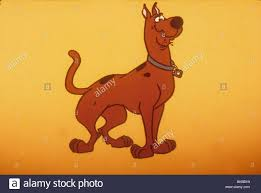scooby: (64, 2, 185, 159)
